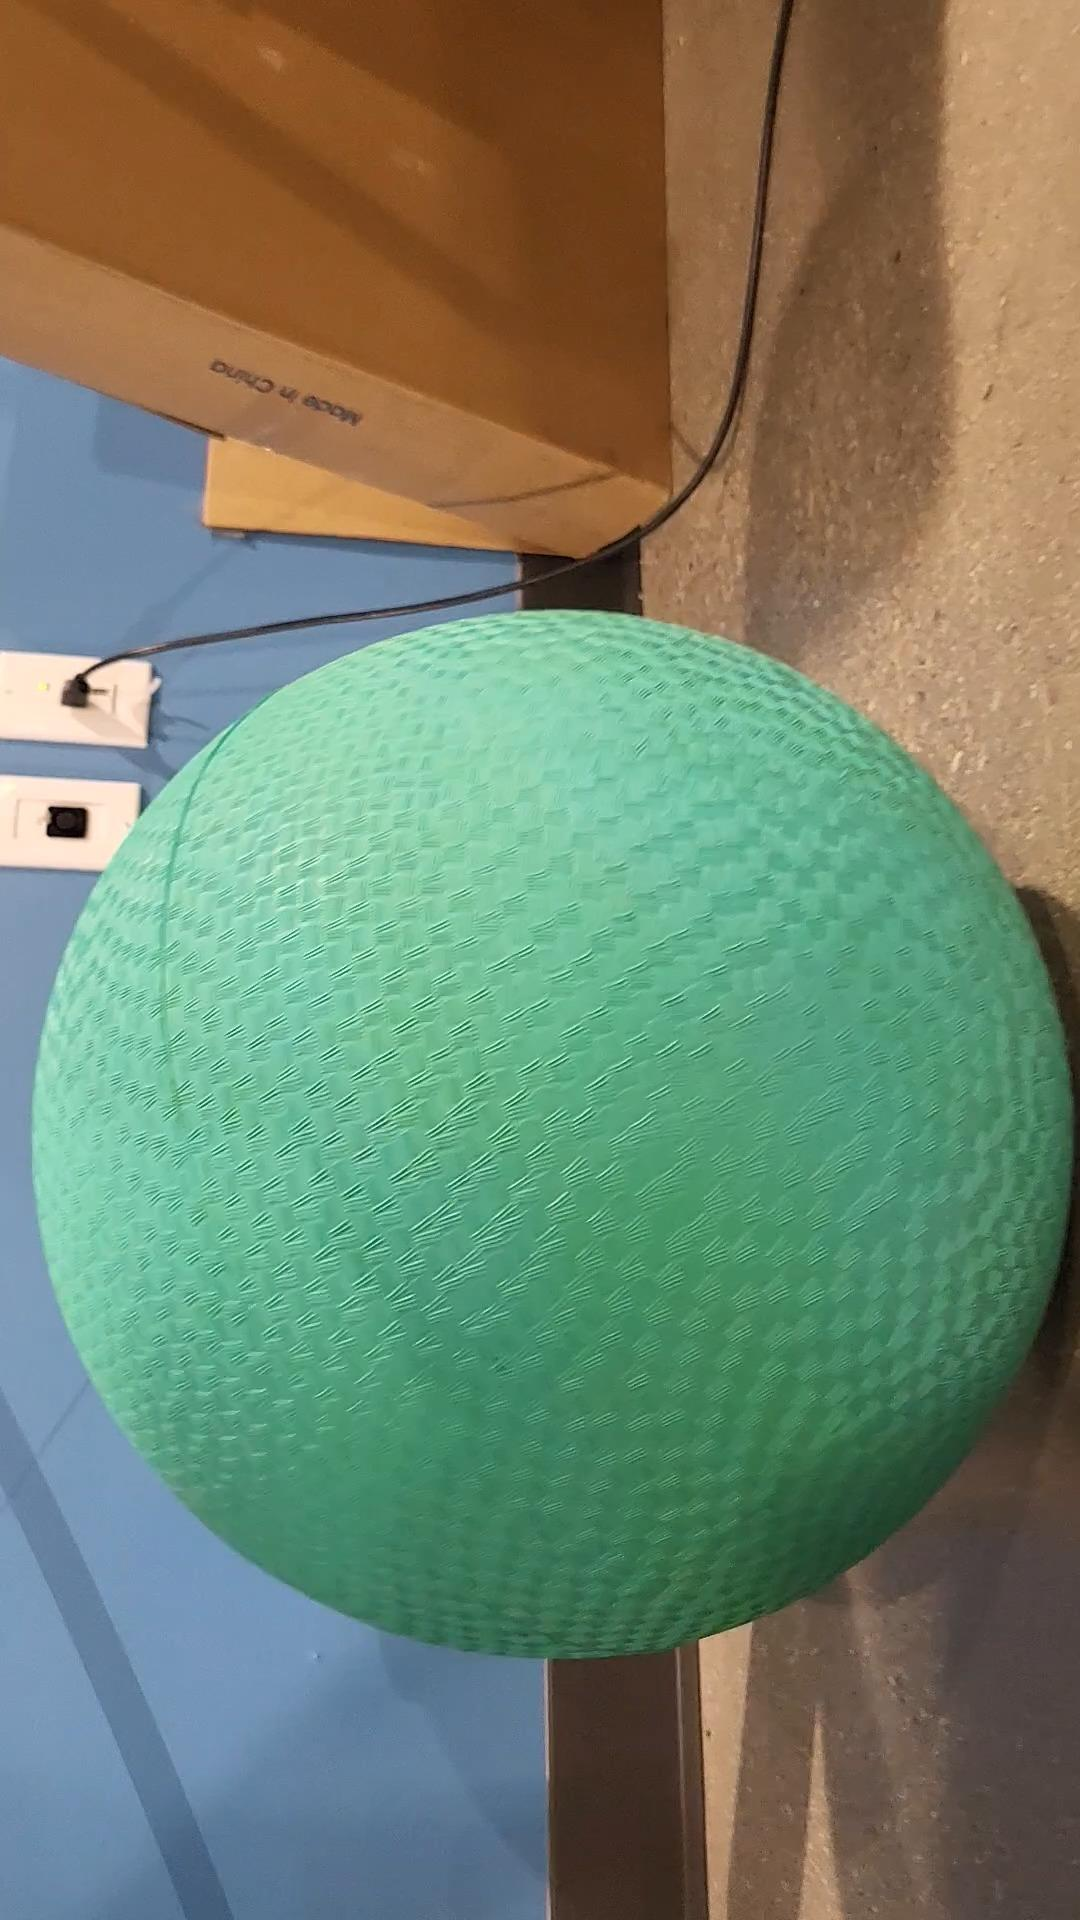algae: (42, 611, 1068, 1665)
